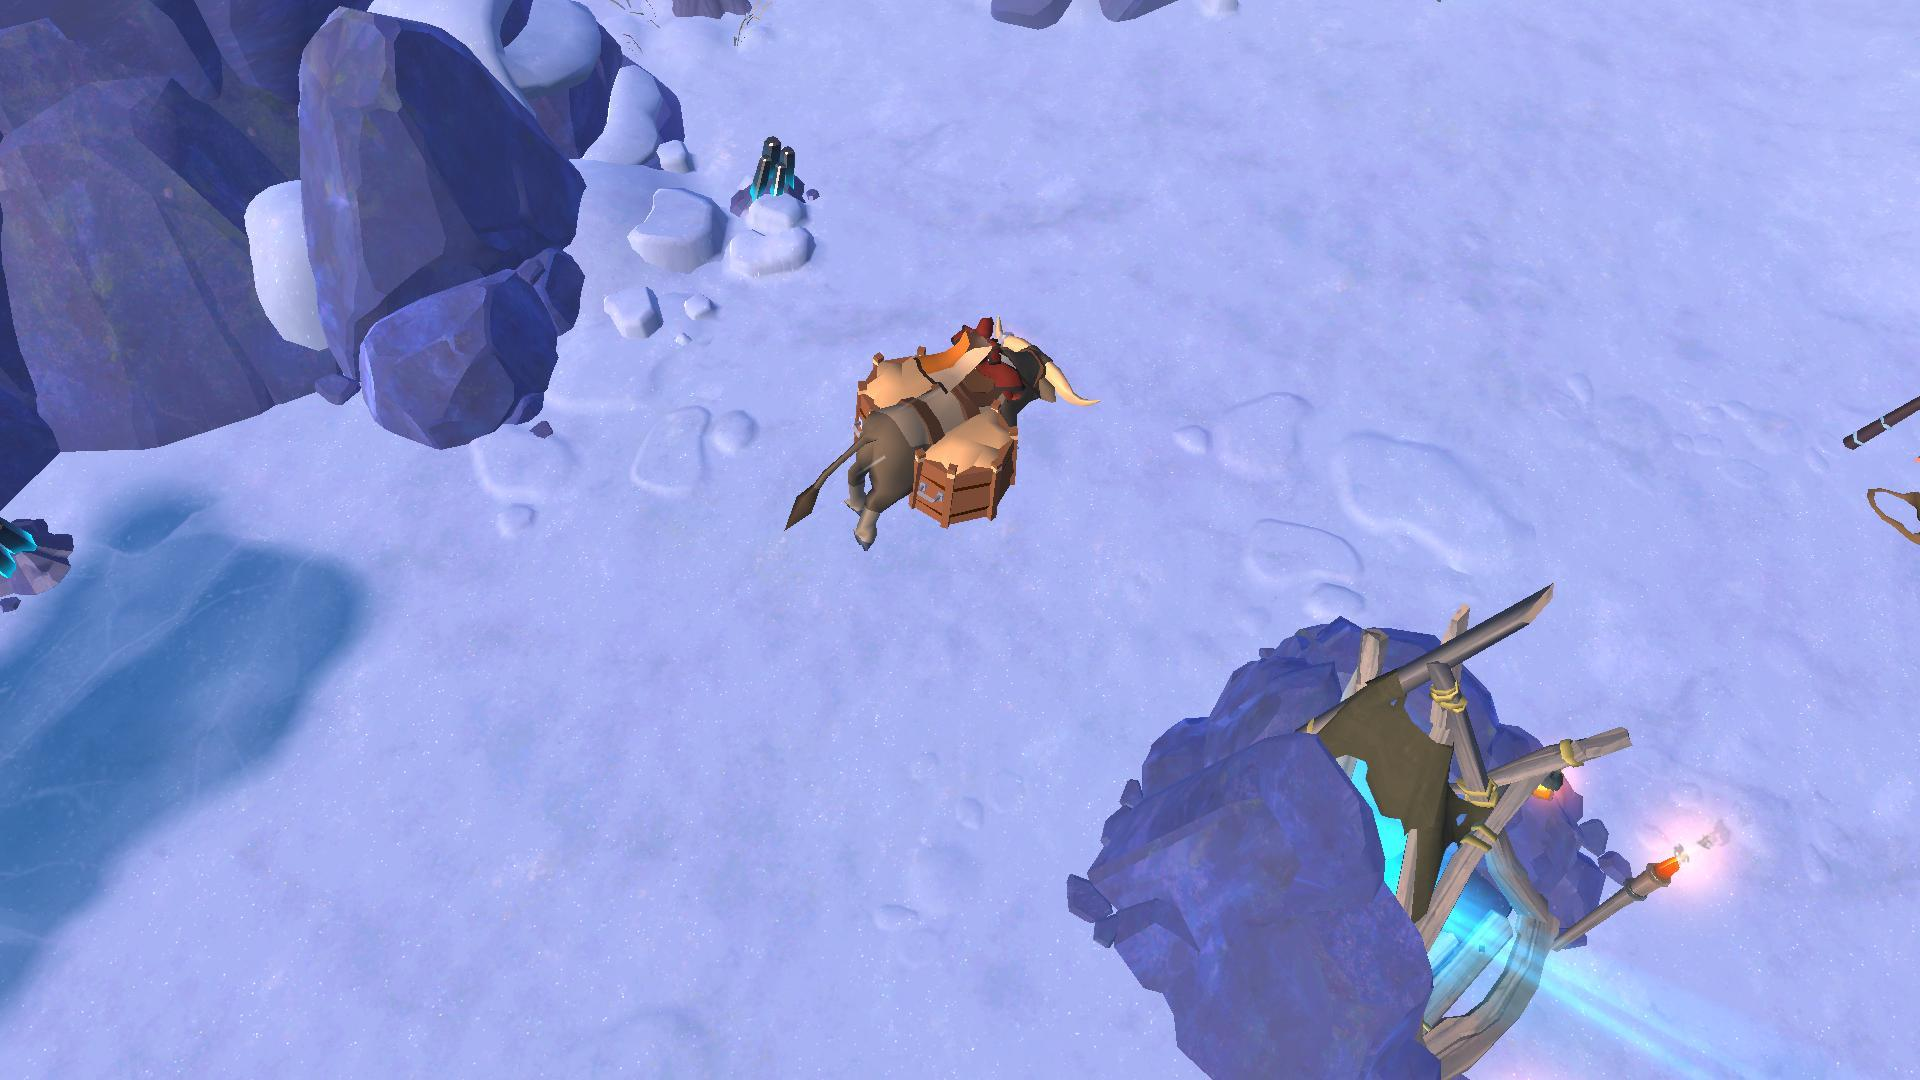ore_t4: (740, 127, 800, 212), (0, 505, 40, 587)
